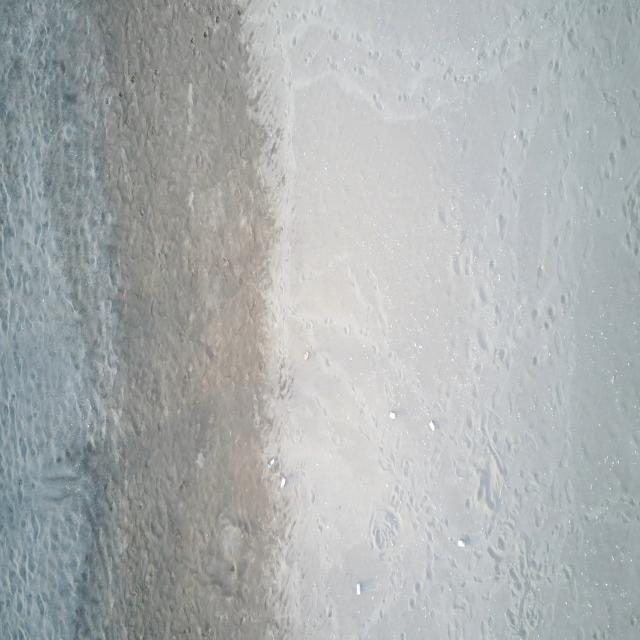tin-and-aluminum-cans: (280, 476, 287, 490), (457, 538, 466, 548), (388, 410, 396, 420), (429, 419, 435, 432), (268, 457, 275, 468), (356, 584, 362, 596), (304, 351, 309, 361)
